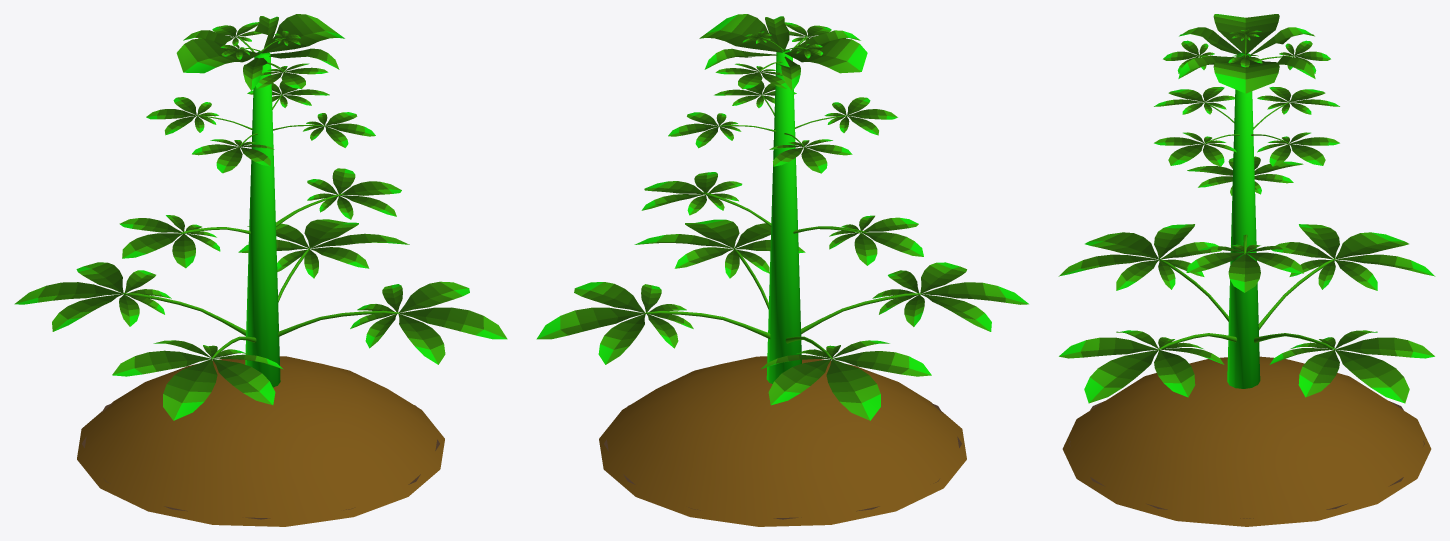
File: Cannibis flower.fbx
3 renders of one model, left to right at view 1: azimuth 30°, elevation 25°; view 2: azimuth 150°, elevation 25°; view 3: azimuth 270°, elevation 25°, orthographic.
Parts seen in each view (by area): view 1: Soil, Leaf model.001, Stem, Top Leaf; view 2: Soil, Leaf model.001, Stem, Top Leaf; view 3: Soil, Leaf model.001, Stem, Top Leaf.
Part boxes in pixels (x1=…): Soil: x1=77, y1=356, x2=444, y2=526; Leaf model.001: x1=14, y1=22, x2=507, y2=420; Stem: x1=245, y1=51, x2=280, y2=387; Top Leaf: x1=176, y1=14, x2=344, y2=90; Soil: x1=599, y1=356, x2=966, y2=526; Leaf model.001: x1=536, y1=22, x2=1028, y2=420; Stem: x1=766, y1=49, x2=801, y2=383; Top Leaf: x1=699, y1=14, x2=867, y2=91; Soil: x1=1062, y1=356, x2=1431, y2=526; Leaf model.001: x1=1058, y1=29, x2=1435, y2=403; Stem: x1=1227, y1=52, x2=1260, y2=388; Top Leaf: x1=1178, y1=14, x2=1315, y2=93.
Size of the model in its own units: 157 by 172 by 145.
